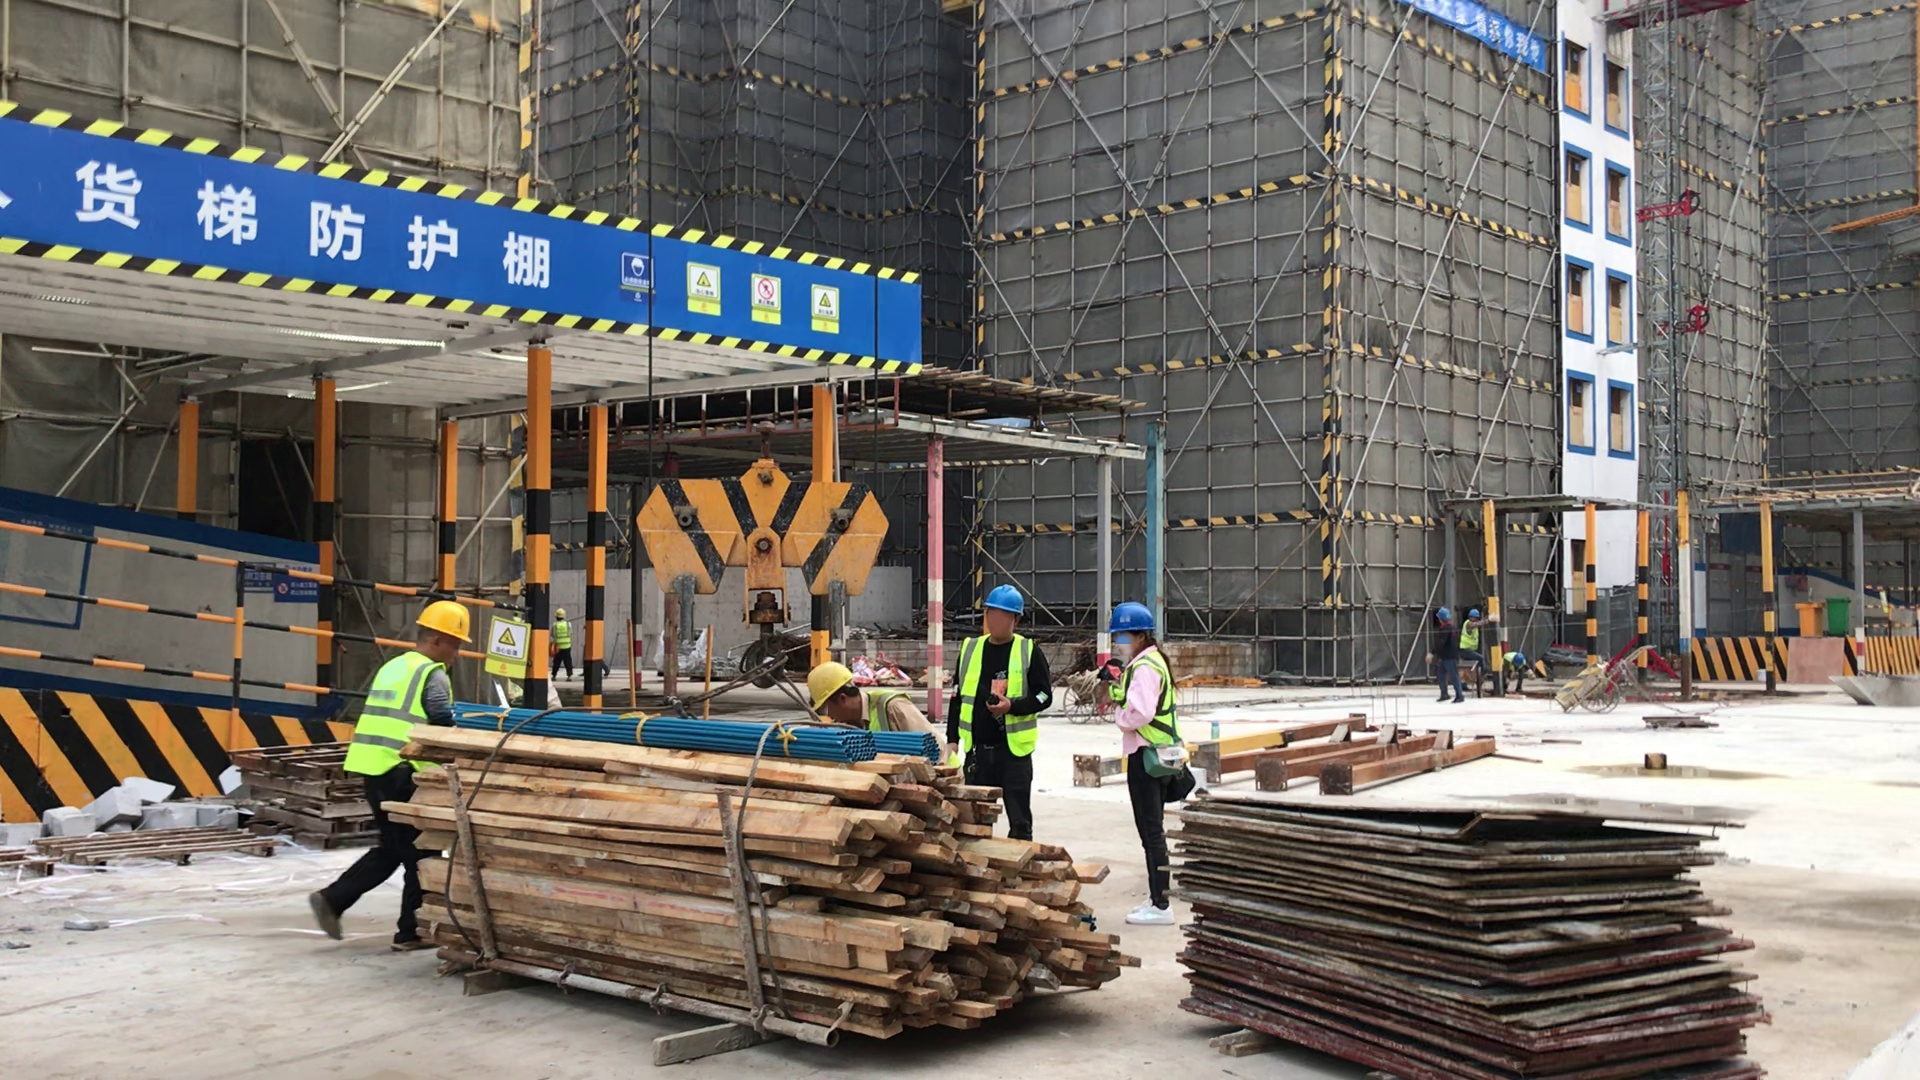helmet: (413, 596, 472, 647), (803, 662, 853, 698), (983, 583, 1028, 618), (1108, 601, 1159, 633), (1434, 607, 1452, 621), (1513, 653, 1525, 667), (553, 608, 567, 619), (1465, 610, 1480, 620)
person: (309, 592, 462, 953), (1093, 601, 1195, 934), (960, 584, 1053, 832), (795, 661, 959, 764), (1427, 605, 1459, 705), (1462, 604, 1499, 669), (1502, 645, 1541, 697), (551, 606, 571, 682)
vest: (347, 654, 433, 777), (962, 636, 1039, 757), (1113, 646, 1186, 752), (858, 690, 912, 739), (551, 619, 570, 650), (1462, 620, 1479, 649)
